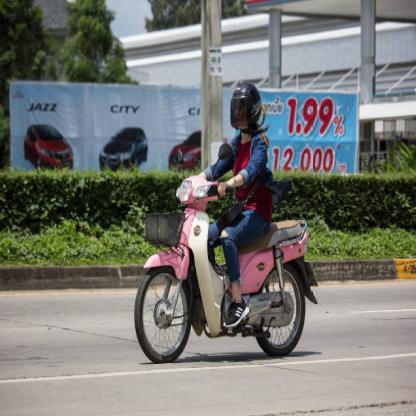Motorcycle: (130, 155, 314, 363)
